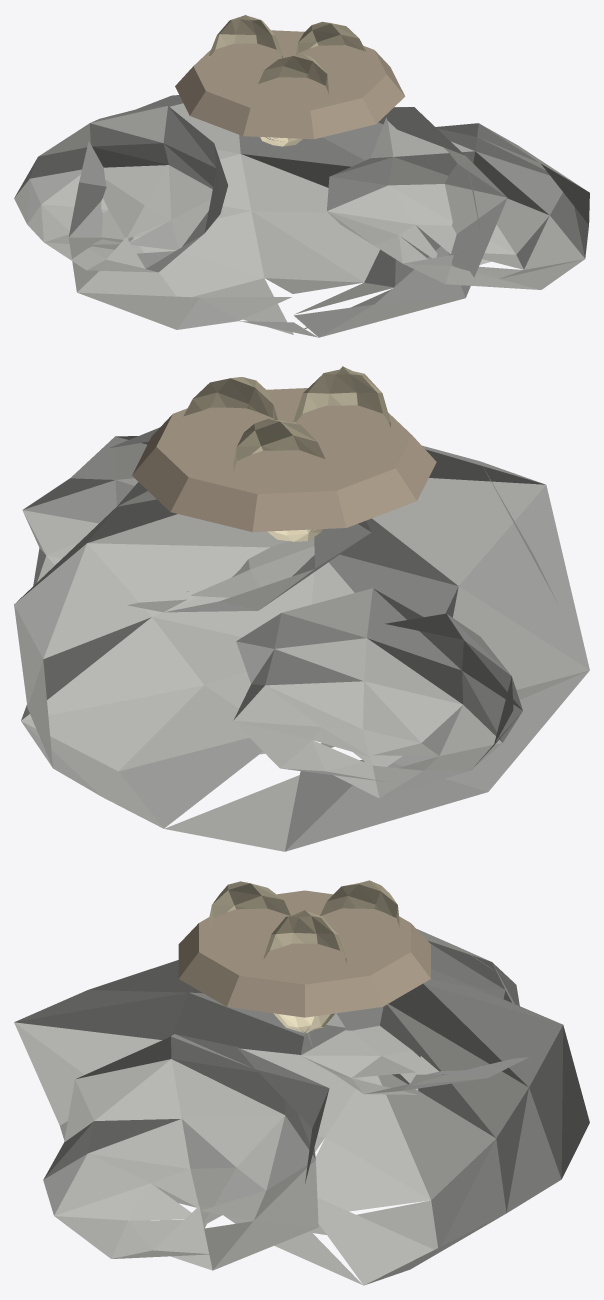
Rendered from dragons-and-wyverns-egg-clutch-on-rock-6504f727__36737.glb.
3 renders of one model, top to bottom at view 1: azimuth 30°, elevation 25°; view 2: azimuth 150°, elevation 25°; view 3: azimuth 270°, elevation 25°, orthographic. The views are drawn at different scales.
Visible parts, largest first — view 1: egg-clutch-on-rock; view 2: egg-clutch-on-rock; view 3: egg-clutch-on-rock.
Boxes of the visible parts, x1,y1,x2,y2 form: egg-clutch-on-rock: (14, 15, 589, 337); egg-clutch-on-rock: (14, 366, 589, 851); egg-clutch-on-rock: (14, 880, 589, 1285).
Size of the model in its own units: 2.31 by 1.41 by 2.17.
